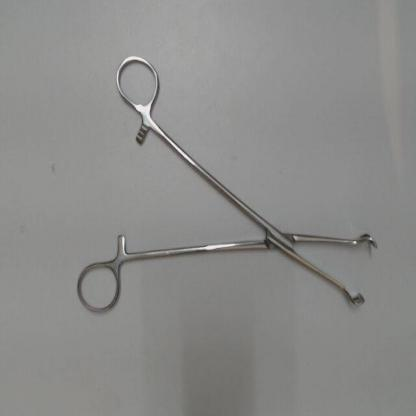8 Babcock Tissue Forceps: (73, 48, 387, 320)
